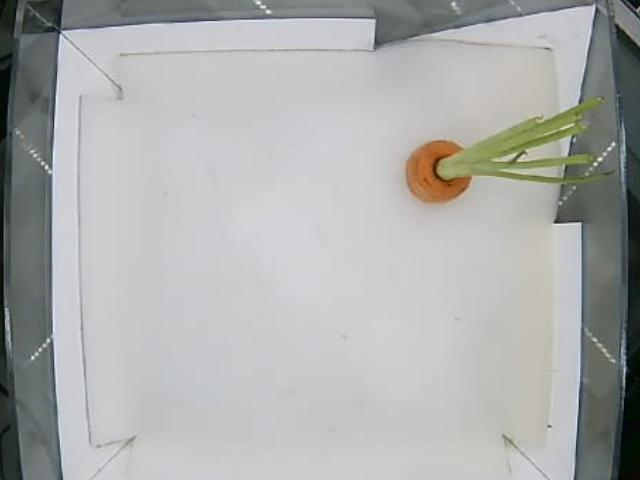Carrot: (403, 126, 535, 202)
